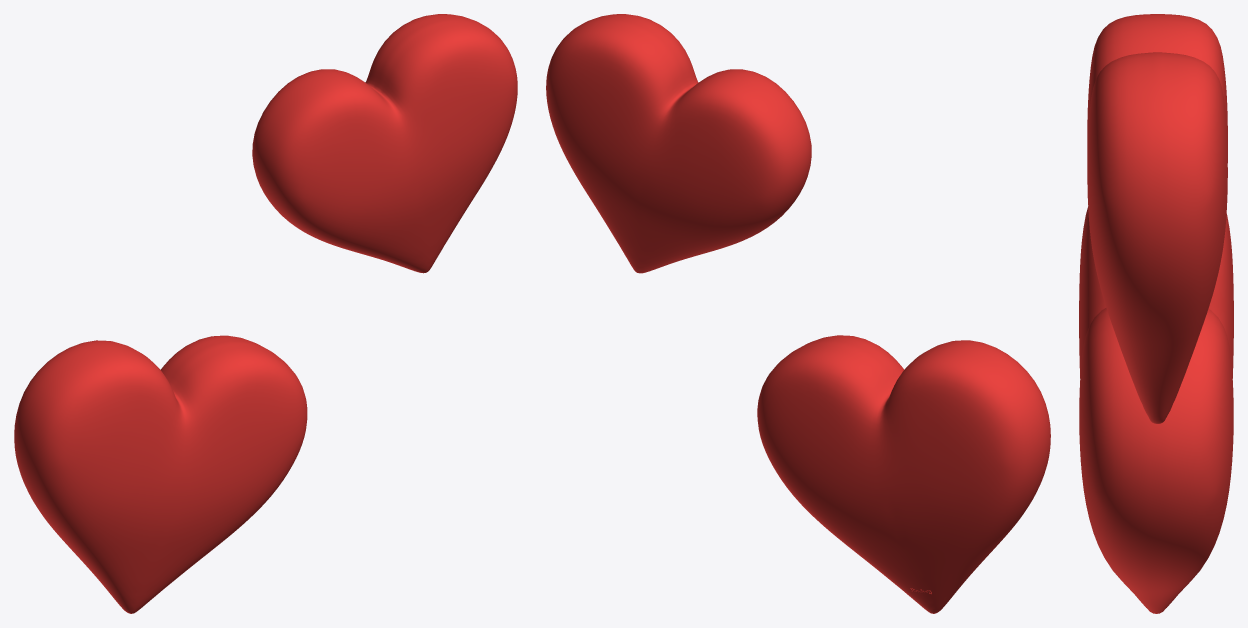
The model's file is two_hearts.gltf.
The picture shows the model from 3 angles, left to right: view 1: azimuth 30°, elevation 25°; view 2: azimuth 150°, elevation 25°; view 3: azimuth 270°, elevation 25°; orthographic projection. The views are drawn at different scales.
Parts seen in each view (by area): view 1: hfdjkslfjkds.010, hfdjkslfjkds.012; view 2: hfdjkslfjkds.010, hfdjkslfjkds.012; view 3: hfdjkslfjkds.012, hfdjkslfjkds.010.
Part boxes in pixels (x1,y1,x2,y2): hfdjkslfjkds.010: (14,335,307,613); hfdjkslfjkds.012: (252,14,517,273); hfdjkslfjkds.010: (757,335,1050,613); hfdjkslfjkds.012: (546,14,811,273); hfdjkslfjkds.012: (1087,14,1227,423); hfdjkslfjkds.010: (1079,206,1233,613).
Bounding box in the file's own units: 1.79 × 1.81 × 0.3276.
Materials: 1 (1 with a texture image).
